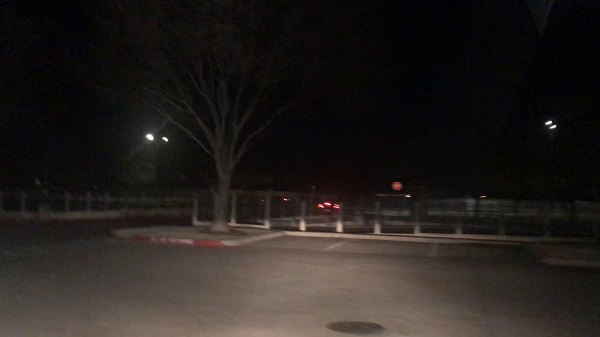car: (315, 193, 345, 212)
